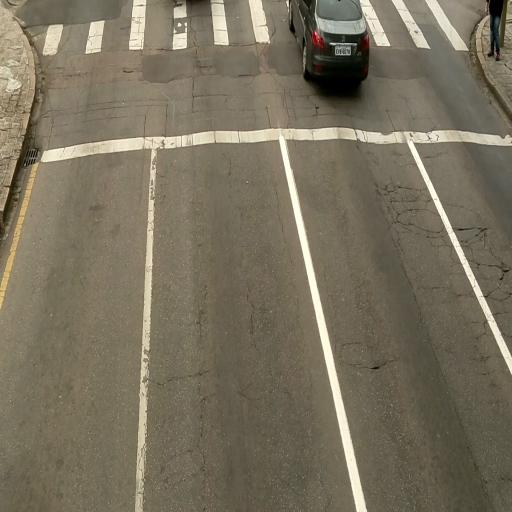car: (288, 3, 371, 86)
